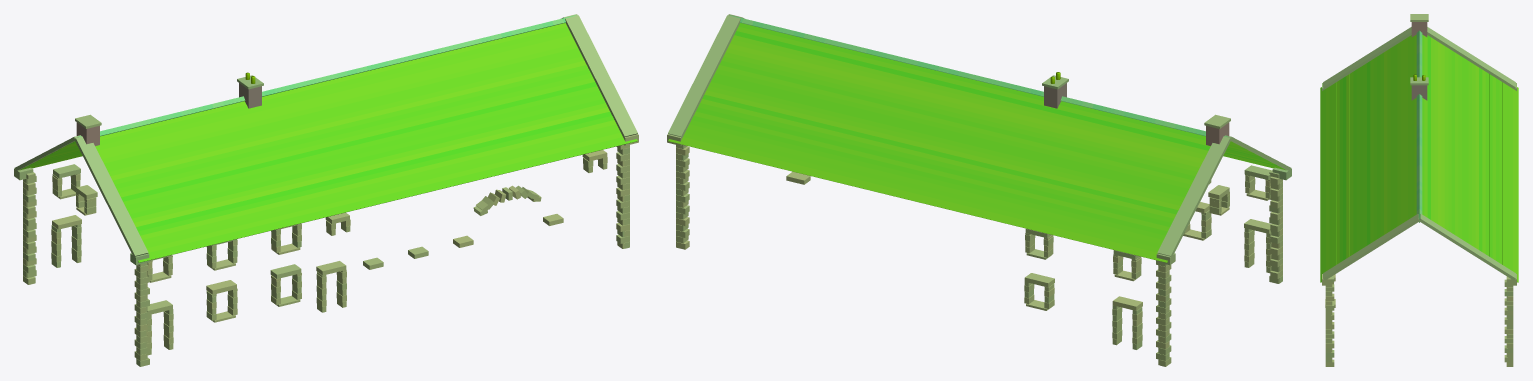
The model's file is SM_Bld_231_Stone.glb.
3 views of the same model, side by side, from view 1: azimuth 30°, elevation 25°; view 2: azimuth 150°, elevation 25°; view 3: azimuth 270°, elevation 25° (orthographic). The views are drawn at different scales.
Parts seen in each view (by area): view 1: SM_Bld_231_Stone; view 2: SM_Bld_231_Stone; view 3: SM_Bld_231_Stone.
Boxes of the visible parts, <box> form: SM_Bld_231_Stone: <box>14,14,638,366</box>; SM_Bld_231_Stone: <box>667,14,1291,366</box>; SM_Bld_231_Stone: <box>1320,14,1518,366</box>.
Bounding box in the file's own units: 26.84 × 10.6 × 11.44.
